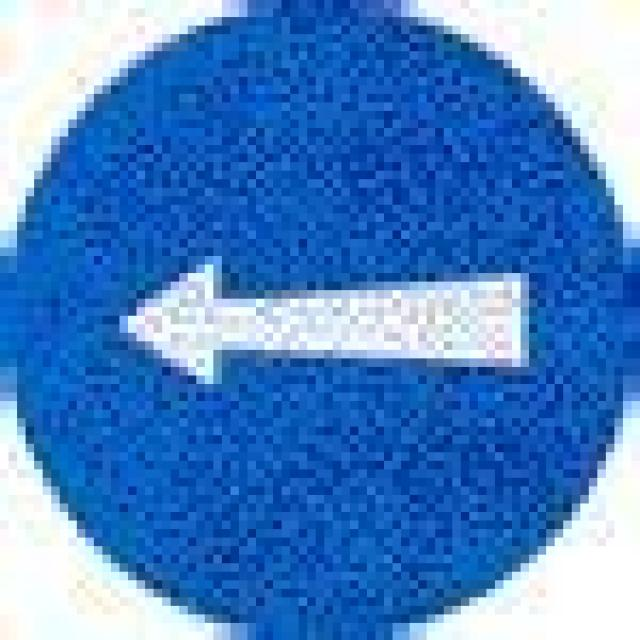COMPULSARY_TURN_LEFT: (0, 0, 631, 623)
